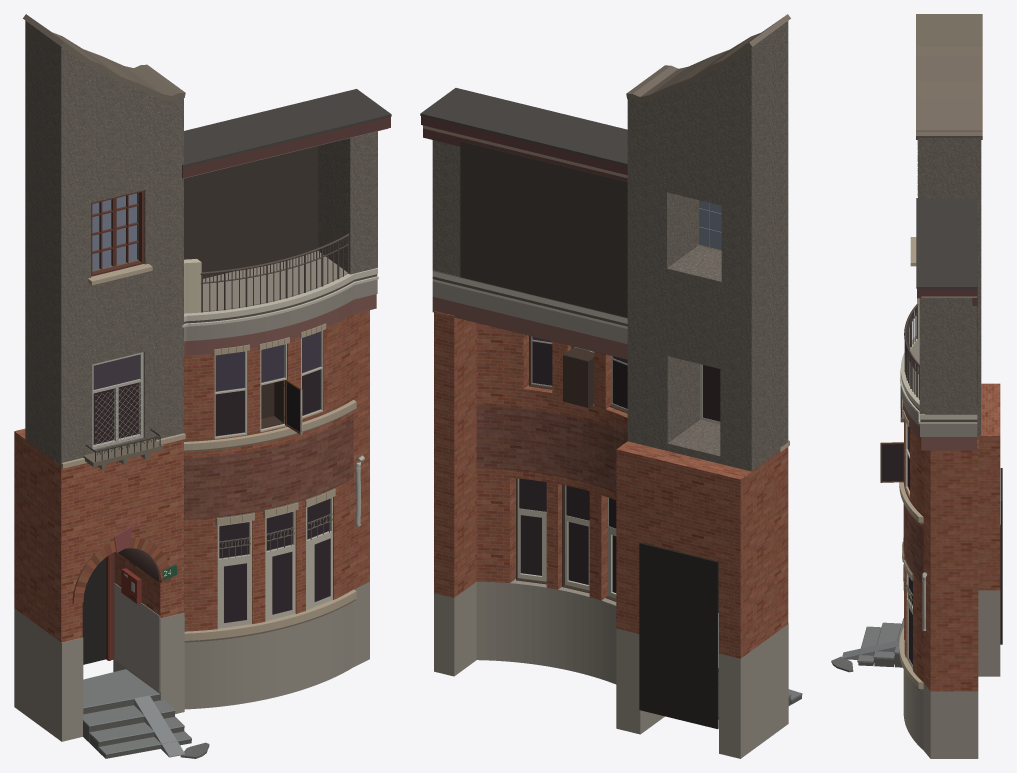
Rendered from hongkou-gongyuanfang-24-yefeng-art-society-front-raw.glb.
3 views of the same model, side by side, from view 1: azimuth 30°, elevation 25°; view 2: azimuth 150°, elevation 25°; view 3: azimuth 270°, elevation 25° (orthographic). The views are drawn at different scales.
Visible parts, largest first — view 1: 公园坊24号野风画会旧址南立面; view 2: 公园坊24号野风画会旧址南立面; view 3: 公园坊24号野风画会旧址南立面.
Part boxes in pixels (bbox=[...]): 公园坊24号野风画会旧址南立面: bbox=[14, 14, 391, 758]; 公园坊24号野风画会旧址南立面: bbox=[420, 14, 802, 758]; 公园坊24号野风画会旧址南立面: bbox=[831, 14, 1002, 758].
Size of the model in its own units: 6.59 by 13.34 by 3.38.
60 materials, 3 textured.
